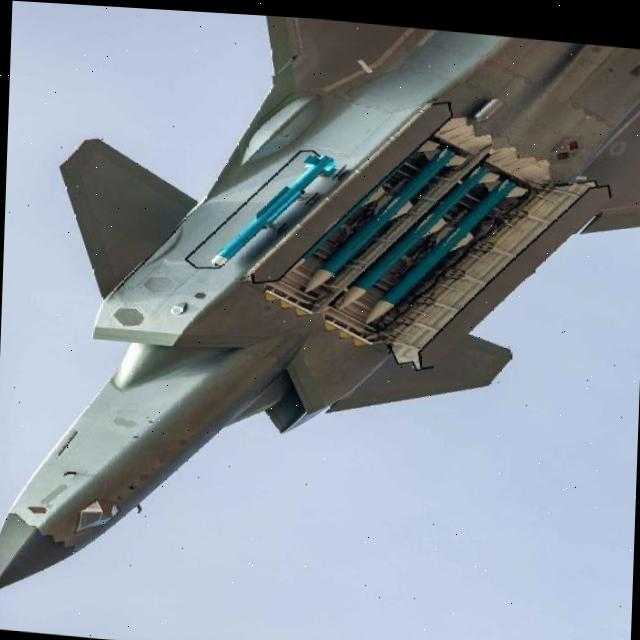missile: (333, 124, 513, 322), (308, 120, 466, 308), (362, 156, 524, 337), (205, 138, 337, 280)
